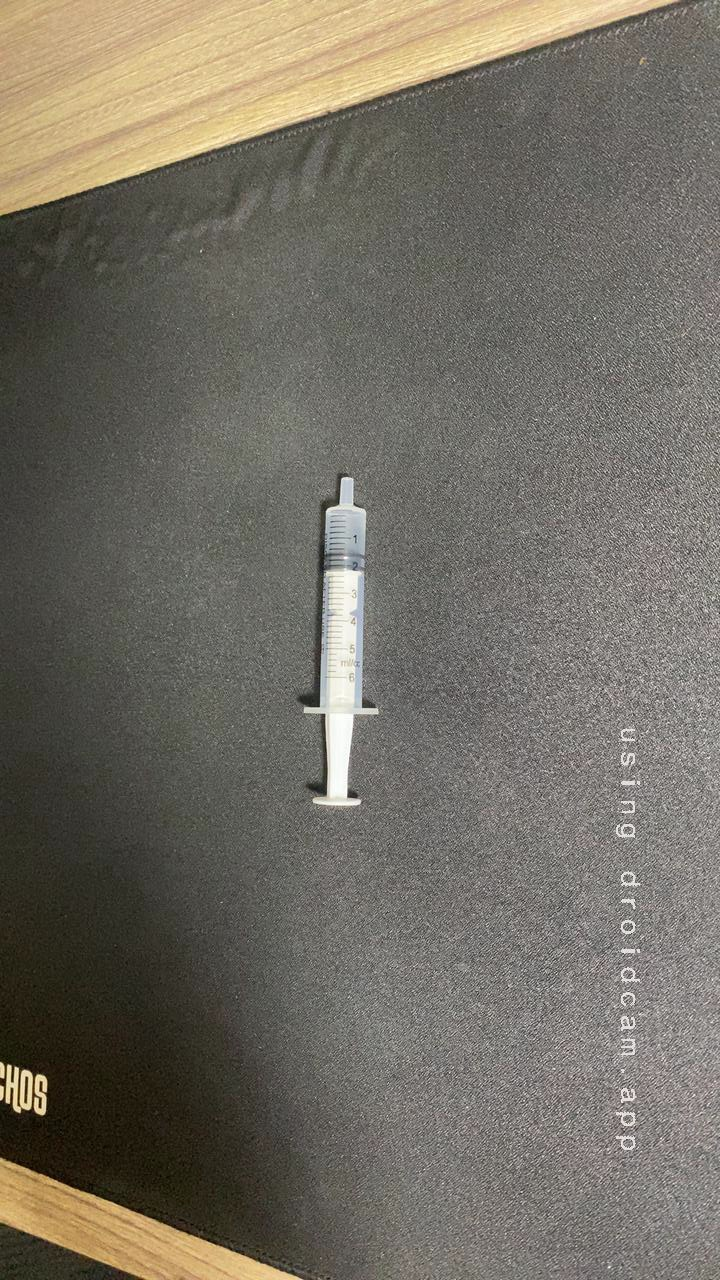syringe: (267, 461, 422, 832)
